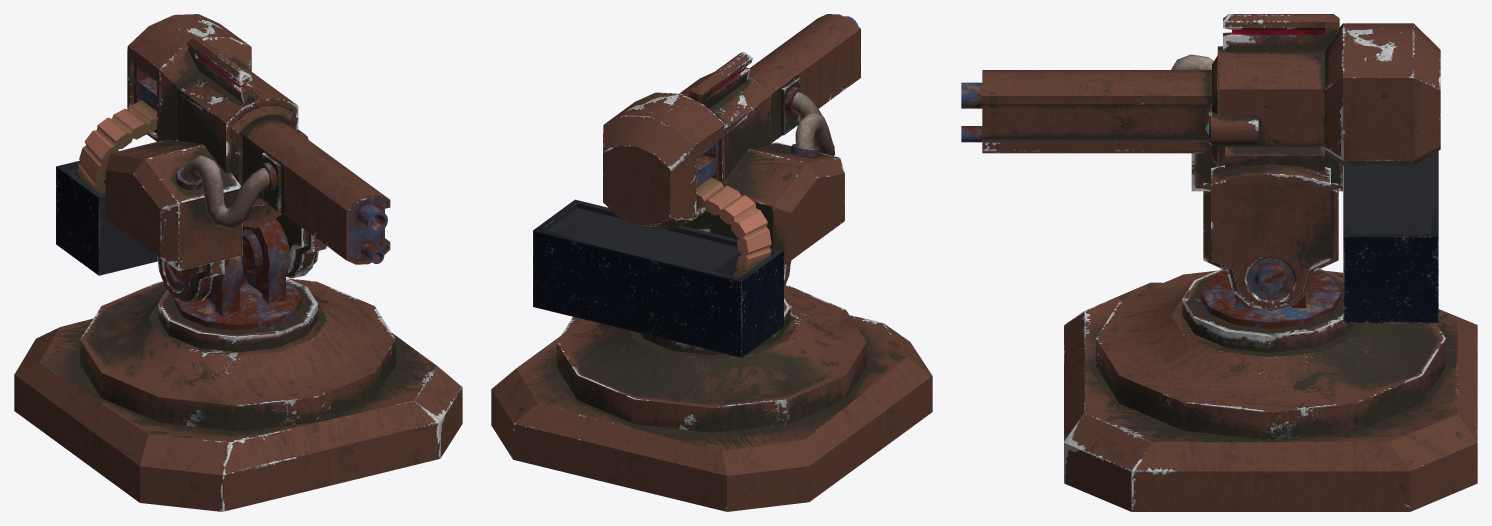
Rendered from interceptor_base.glb.
The picture shows the model from 3 angles, left to right: view 1: azimuth 30°, elevation 25°; view 2: azimuth 150°, elevation 25°; view 3: azimuth 270°, elevation 25°; orthographic projection. The views are drawn at different scales.
Parts seen in each view (by area): view 1: kanonfot, kanon, kanonben; view 2: kanon, kanonfot, kanonben; view 3: kanon, kanonfot, kanonben.
Part boxes in pixels (x1,y1,x2,y2): kanonfot: (14,278,462,511); kanon: (56,14,390,303); kanonben: (158,218,317,352); kanon: (533,14,860,357); kanonfot: (491,285,932,511); kanonben: (640,298,790,355); kanon: (961,14,1440,323); kanonfot: (1064,270,1477,511); kanonben: (1182,269,1354,352).
Bounding box in the file's own units: 1.44 × 1.54 × 1.79.
Materials: 7 (7 with a texture image).
